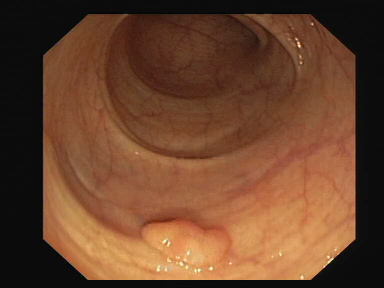polyp: (129, 187, 248, 274)
